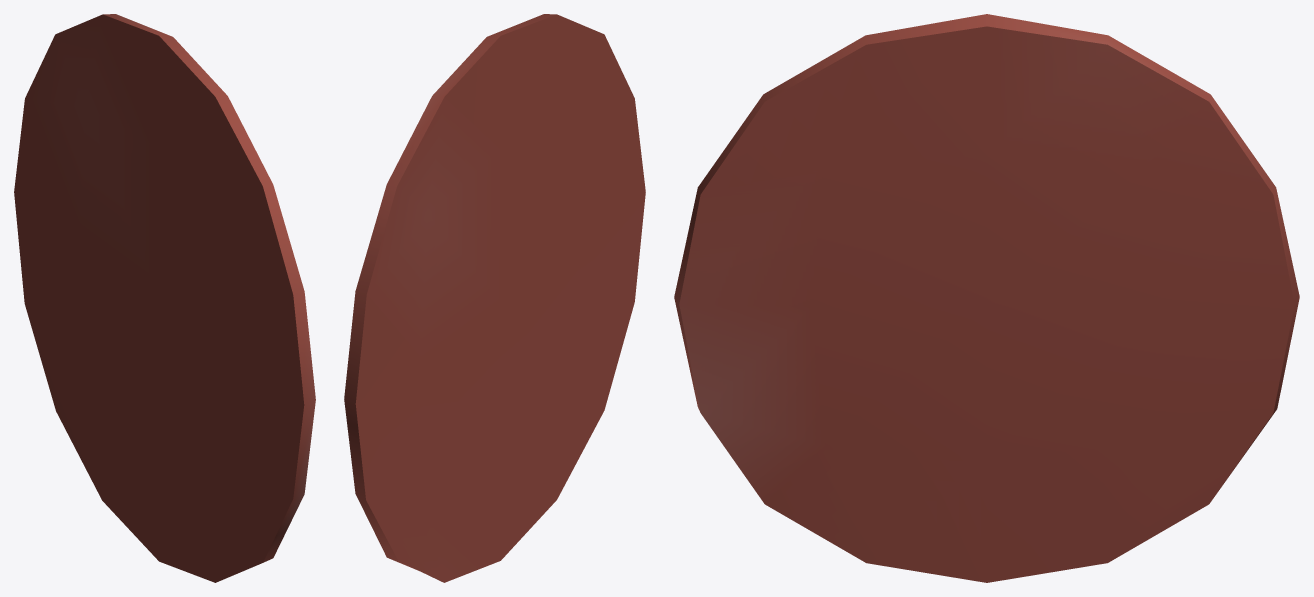
Rendered from Meat-Lombo-Sliced.fbx.
3 renders of one model, left to right at view 1: azimuth 30°, elevation 25°; view 2: azimuth 150°, elevation 25°; view 3: azimuth 270°, elevation 25°, orthographic. The views are drawn at different scales.
Visible parts, largest first — view 1: Meat-Lombo-Sliced; view 2: Meat-Lombo-Sliced; view 3: Meat-Lombo-Sliced.
Part boxes in pixels (x1,y1,x2,y2): Meat-Lombo-Sliced: (14, 14, 315, 582); Meat-Lombo-Sliced: (344, 14, 645, 582); Meat-Lombo-Sliced: (674, 14, 1299, 582).
Size of the model in its own units: 25.47 by 624 by 624.
